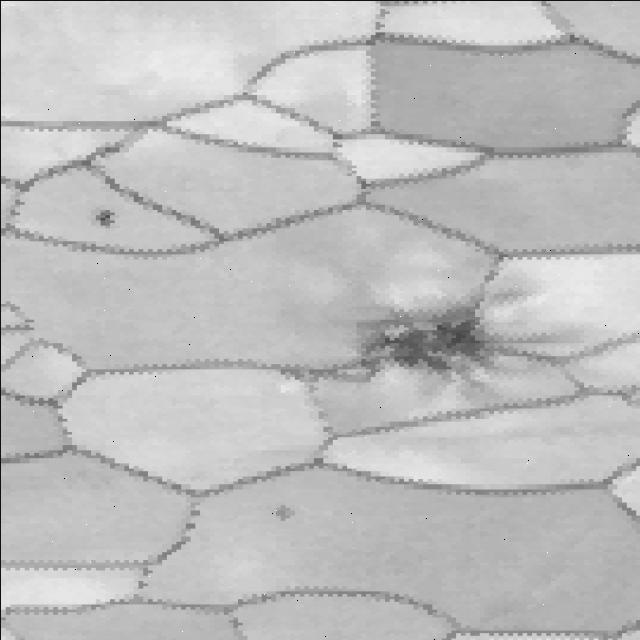good_void: (343, 300, 550, 384), (84, 206, 147, 234), (273, 501, 295, 527)
